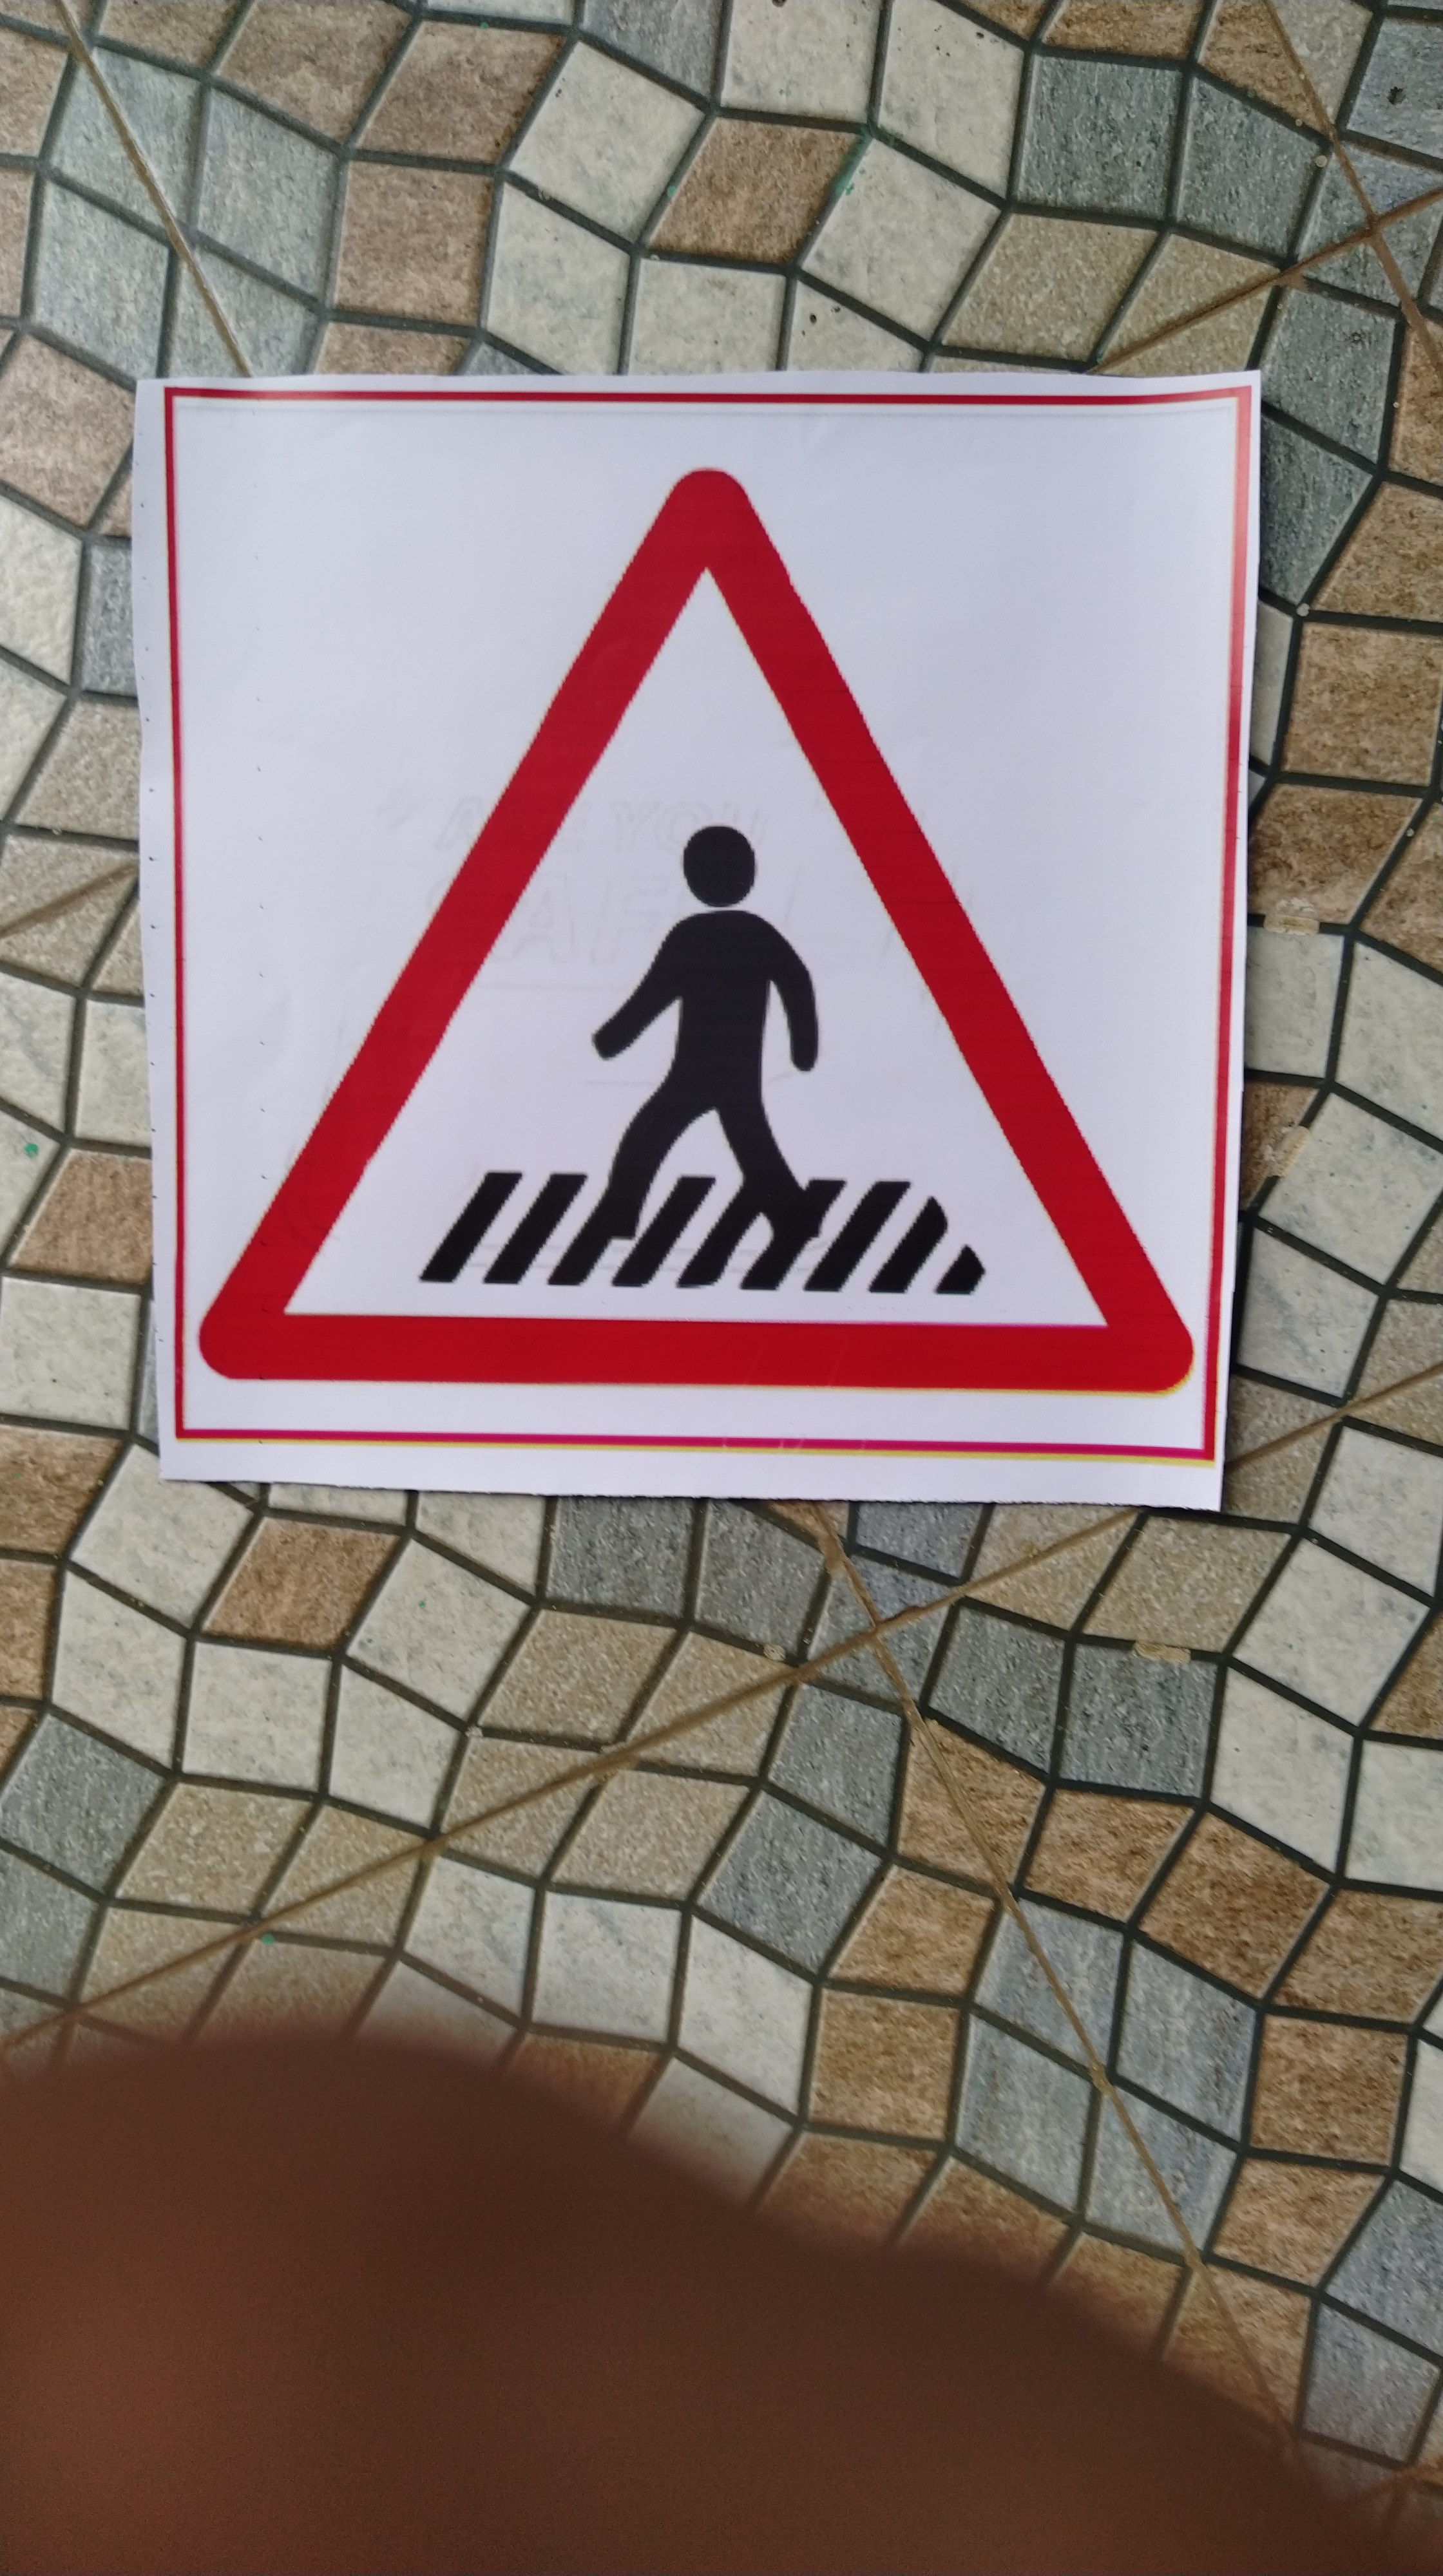pedestrain crossing: (218, 423, 1225, 1493)
